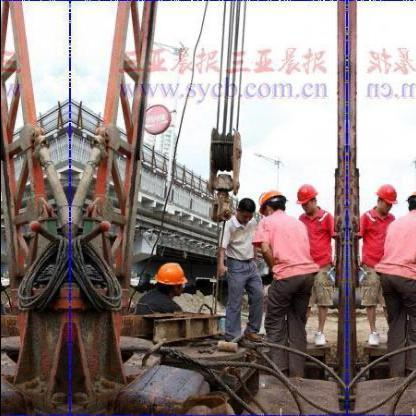Helmet: (150, 256, 186, 298), (251, 188, 283, 224), (293, 178, 319, 212), (371, 178, 397, 212)
No Helmet: (230, 194, 257, 226)
